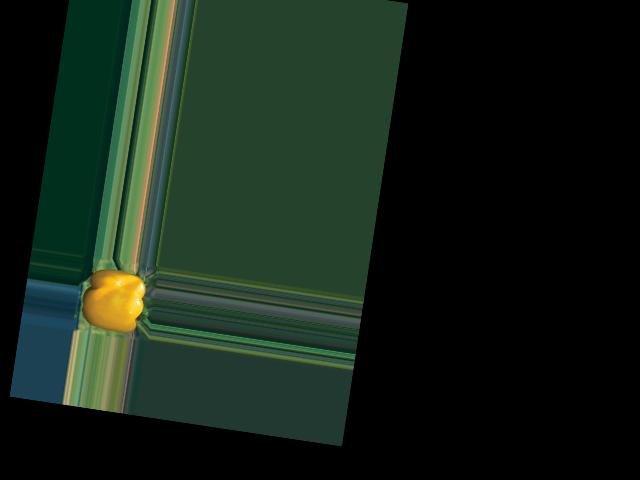bell_pepper: (77, 260, 154, 339)
